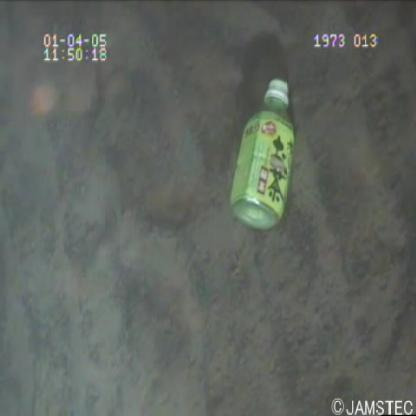Rác: (223, 61, 304, 238)
